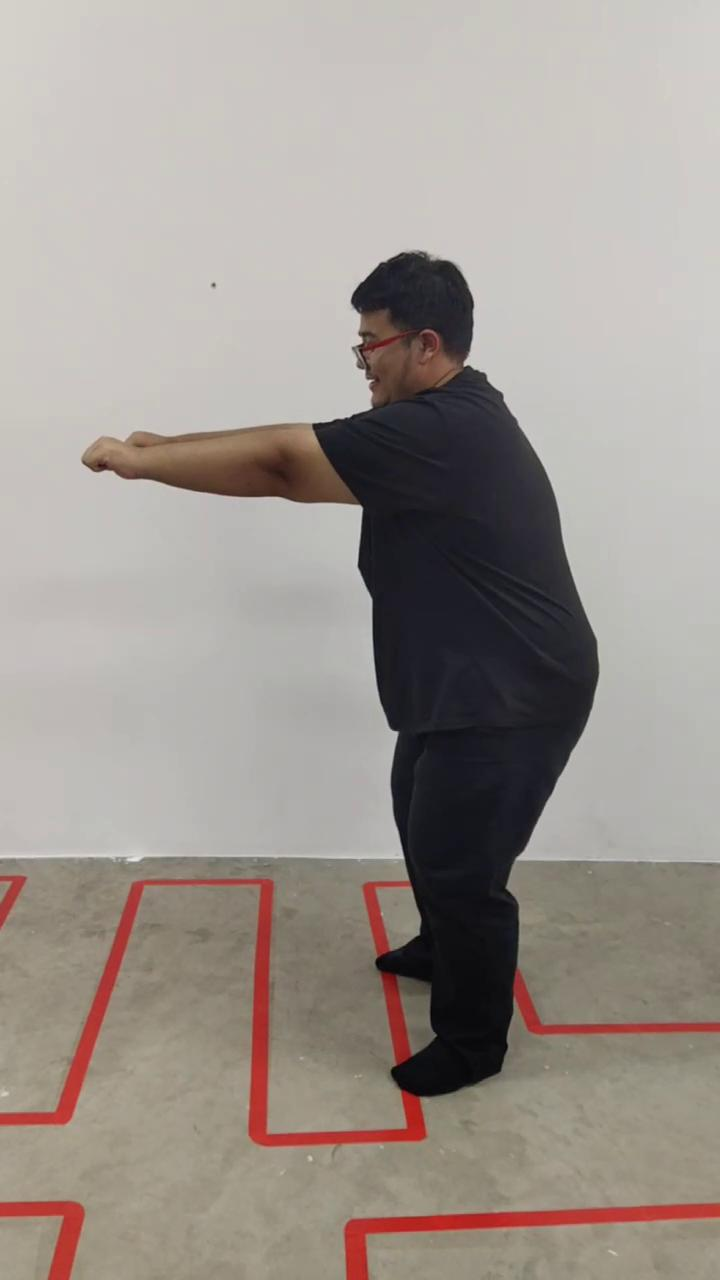squat up: (84, 250, 599, 1098)
